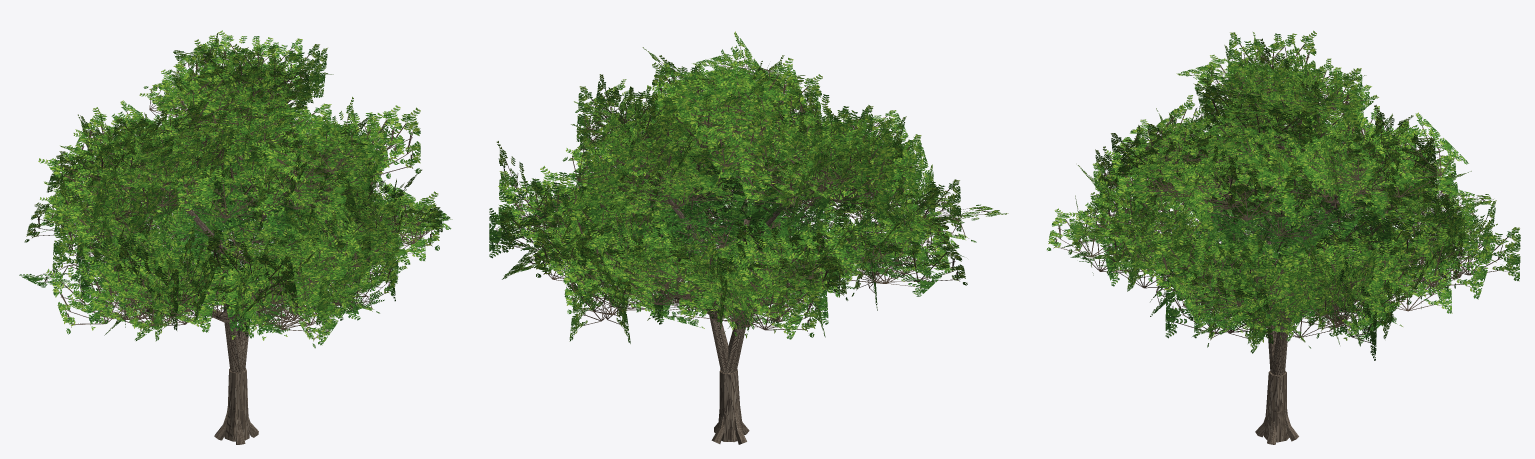
Rendered from pohon_mahoni_rindang_instanced.glb.
3 renders of one model, left to right at view 1: azimuth 30°, elevation 25°; view 2: azimuth 150°, elevation 25°; view 3: azimuth 270°, elevation 25°, orthographic. The views are drawn at different scales.
Visible parts, largest first — view 1: Pohon_Mahoni_Rindang; view 2: Pohon_Mahoni_Rindang; view 3: Pohon_Mahoni_Rindang.
Boxes of the visible parts, left/top/right/bottom form: Pohon_Mahoni_Rindang: left=19, top=30, right=452, bottom=444; Pohon_Mahoni_Rindang: left=489, top=31, right=1008, bottom=444; Pohon_Mahoni_Rindang: left=1046, top=30, right=1520, bottom=444.
Bounding box in the file's own units: 15.87 × 13.23 × 15.66.
Materials: 1 (1 with a texture image).
